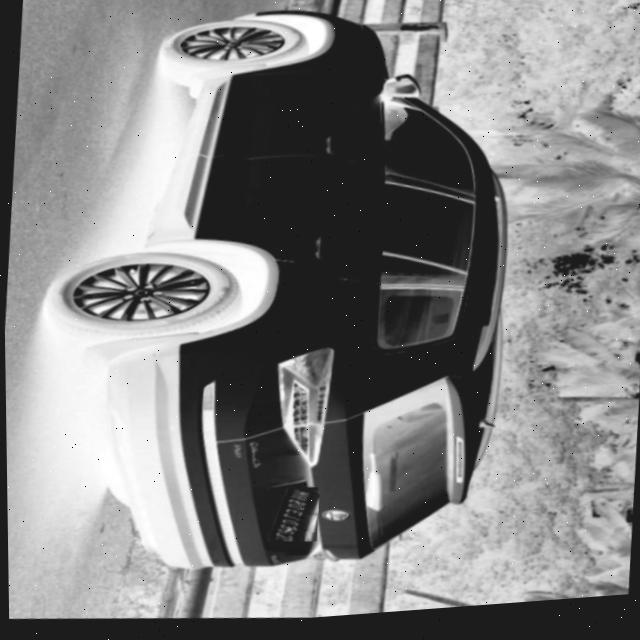Non_registered: (264, 488, 318, 548)
